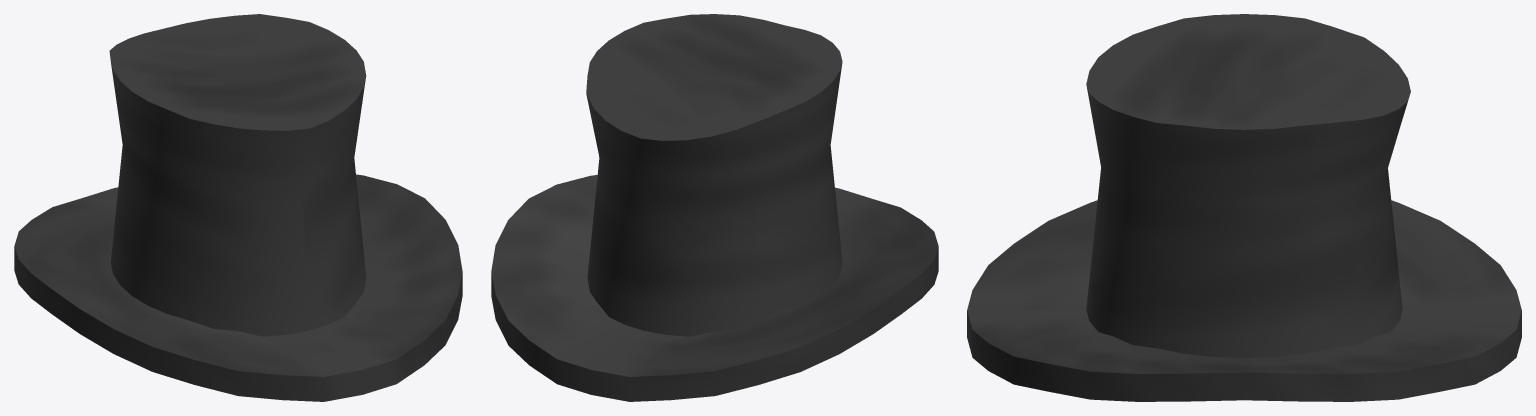
The model's file is hat.fbx.
The picture shows the model from 3 angles, left to right: view 1: azimuth 30°, elevation 25°; view 2: azimuth 150°, elevation 25°; view 3: azimuth 270°, elevation 25°; orthographic projection. The views are drawn at different scales.
Parts seen in each view (by area): view 1: Cylinder; view 2: Cylinder; view 3: Cylinder.
Boxes of the visible parts, x1=… form: Cylinder: x1=14, y1=14, x2=462, y2=401; Cylinder: x1=491, y1=14, x2=938, y2=401; Cylinder: x1=967, y1=14, x2=1521, y2=401.
Size of the model in its own units: 304 by 186 by 351.
